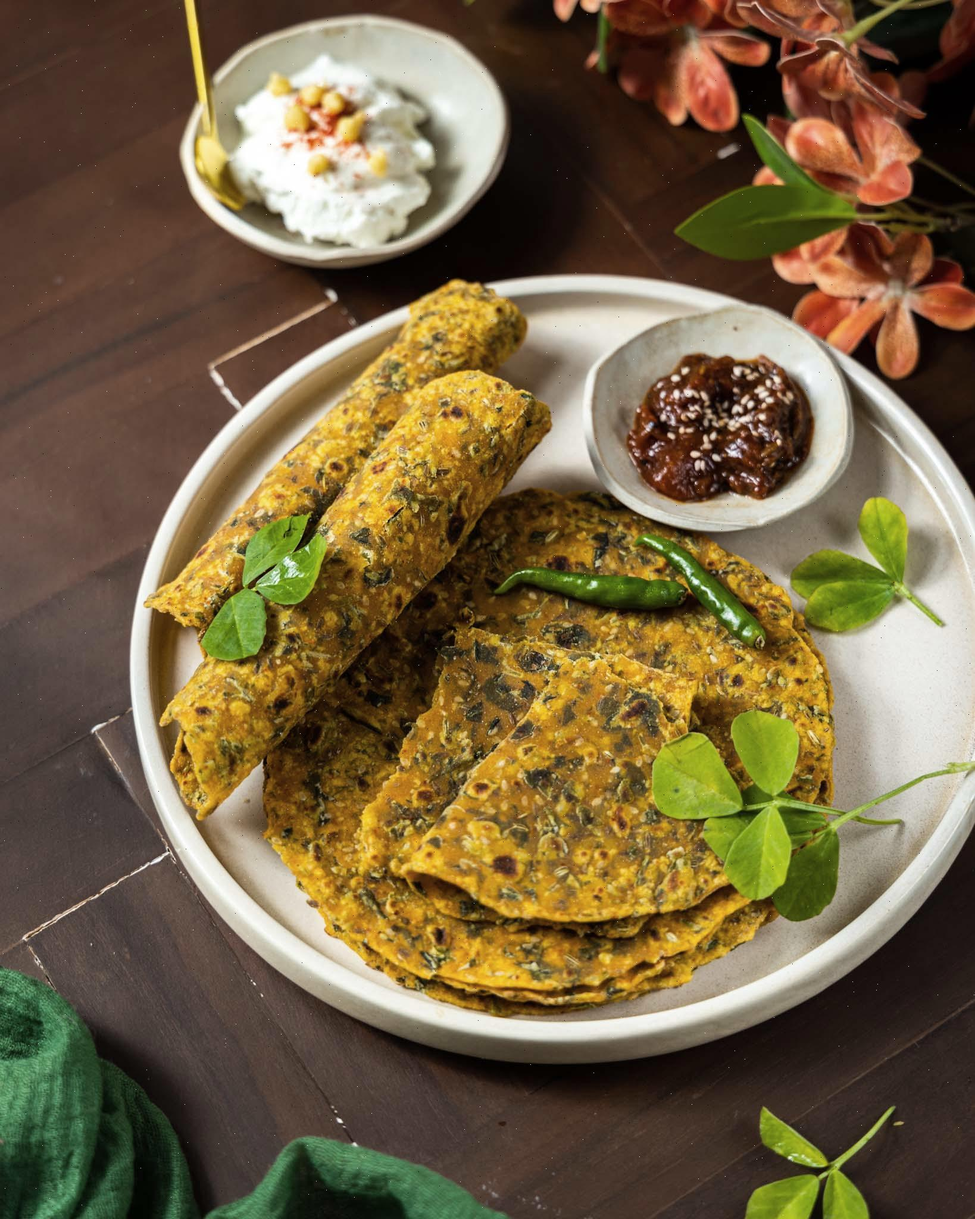thepla: (156, 412, 796, 964)
